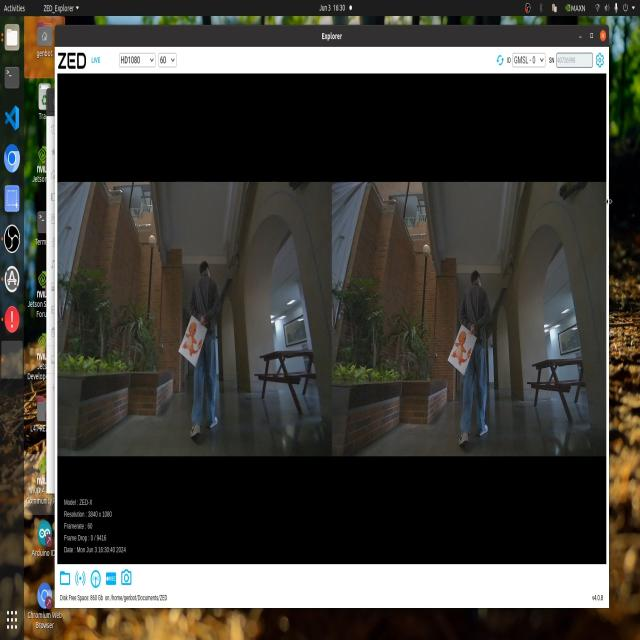red: (454, 322, 471, 368), (184, 320, 203, 358)
